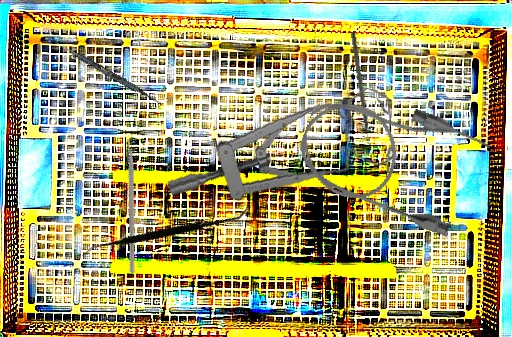Cannula: (287, 75, 494, 241)
Chopper: (67, 125, 205, 275)
Hook Surgical: (349, 31, 373, 151)
Spatula Surgical: (80, 145, 251, 317), (47, 36, 165, 107)
Speculum: (165, 68, 404, 219)
